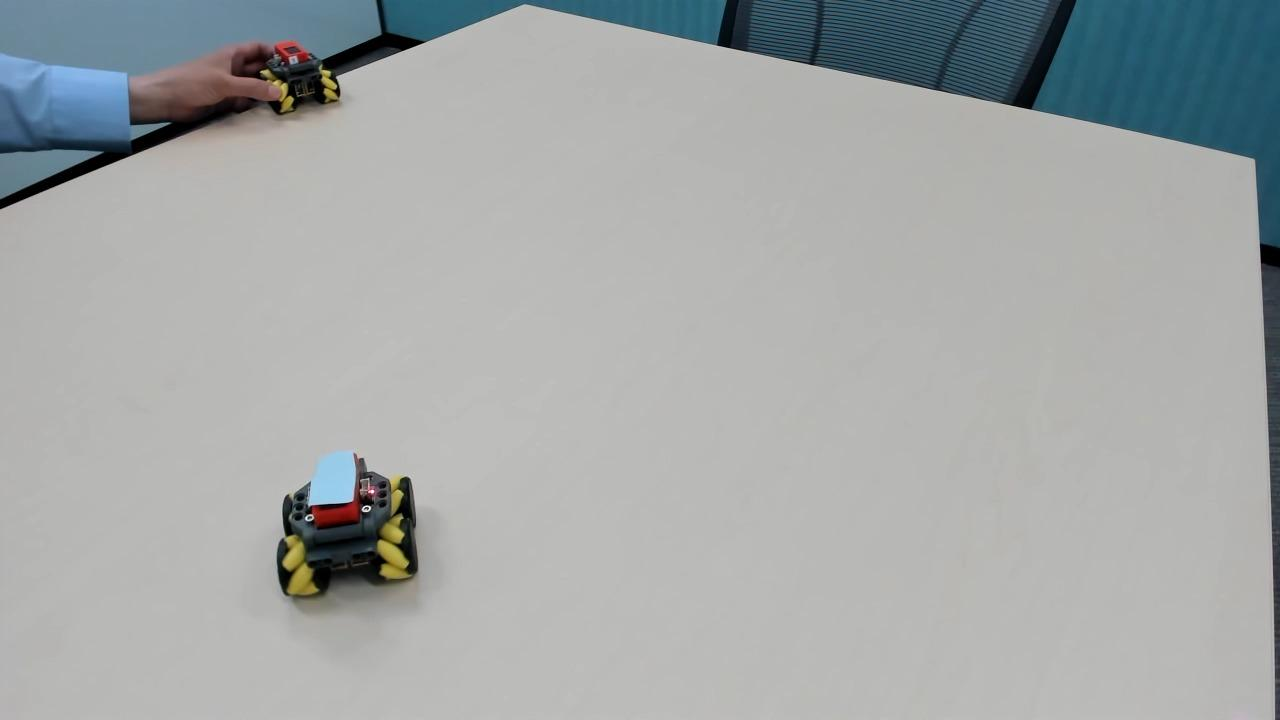B-Robot: (270, 437, 430, 612)
R-Robot: (258, 33, 348, 125)
